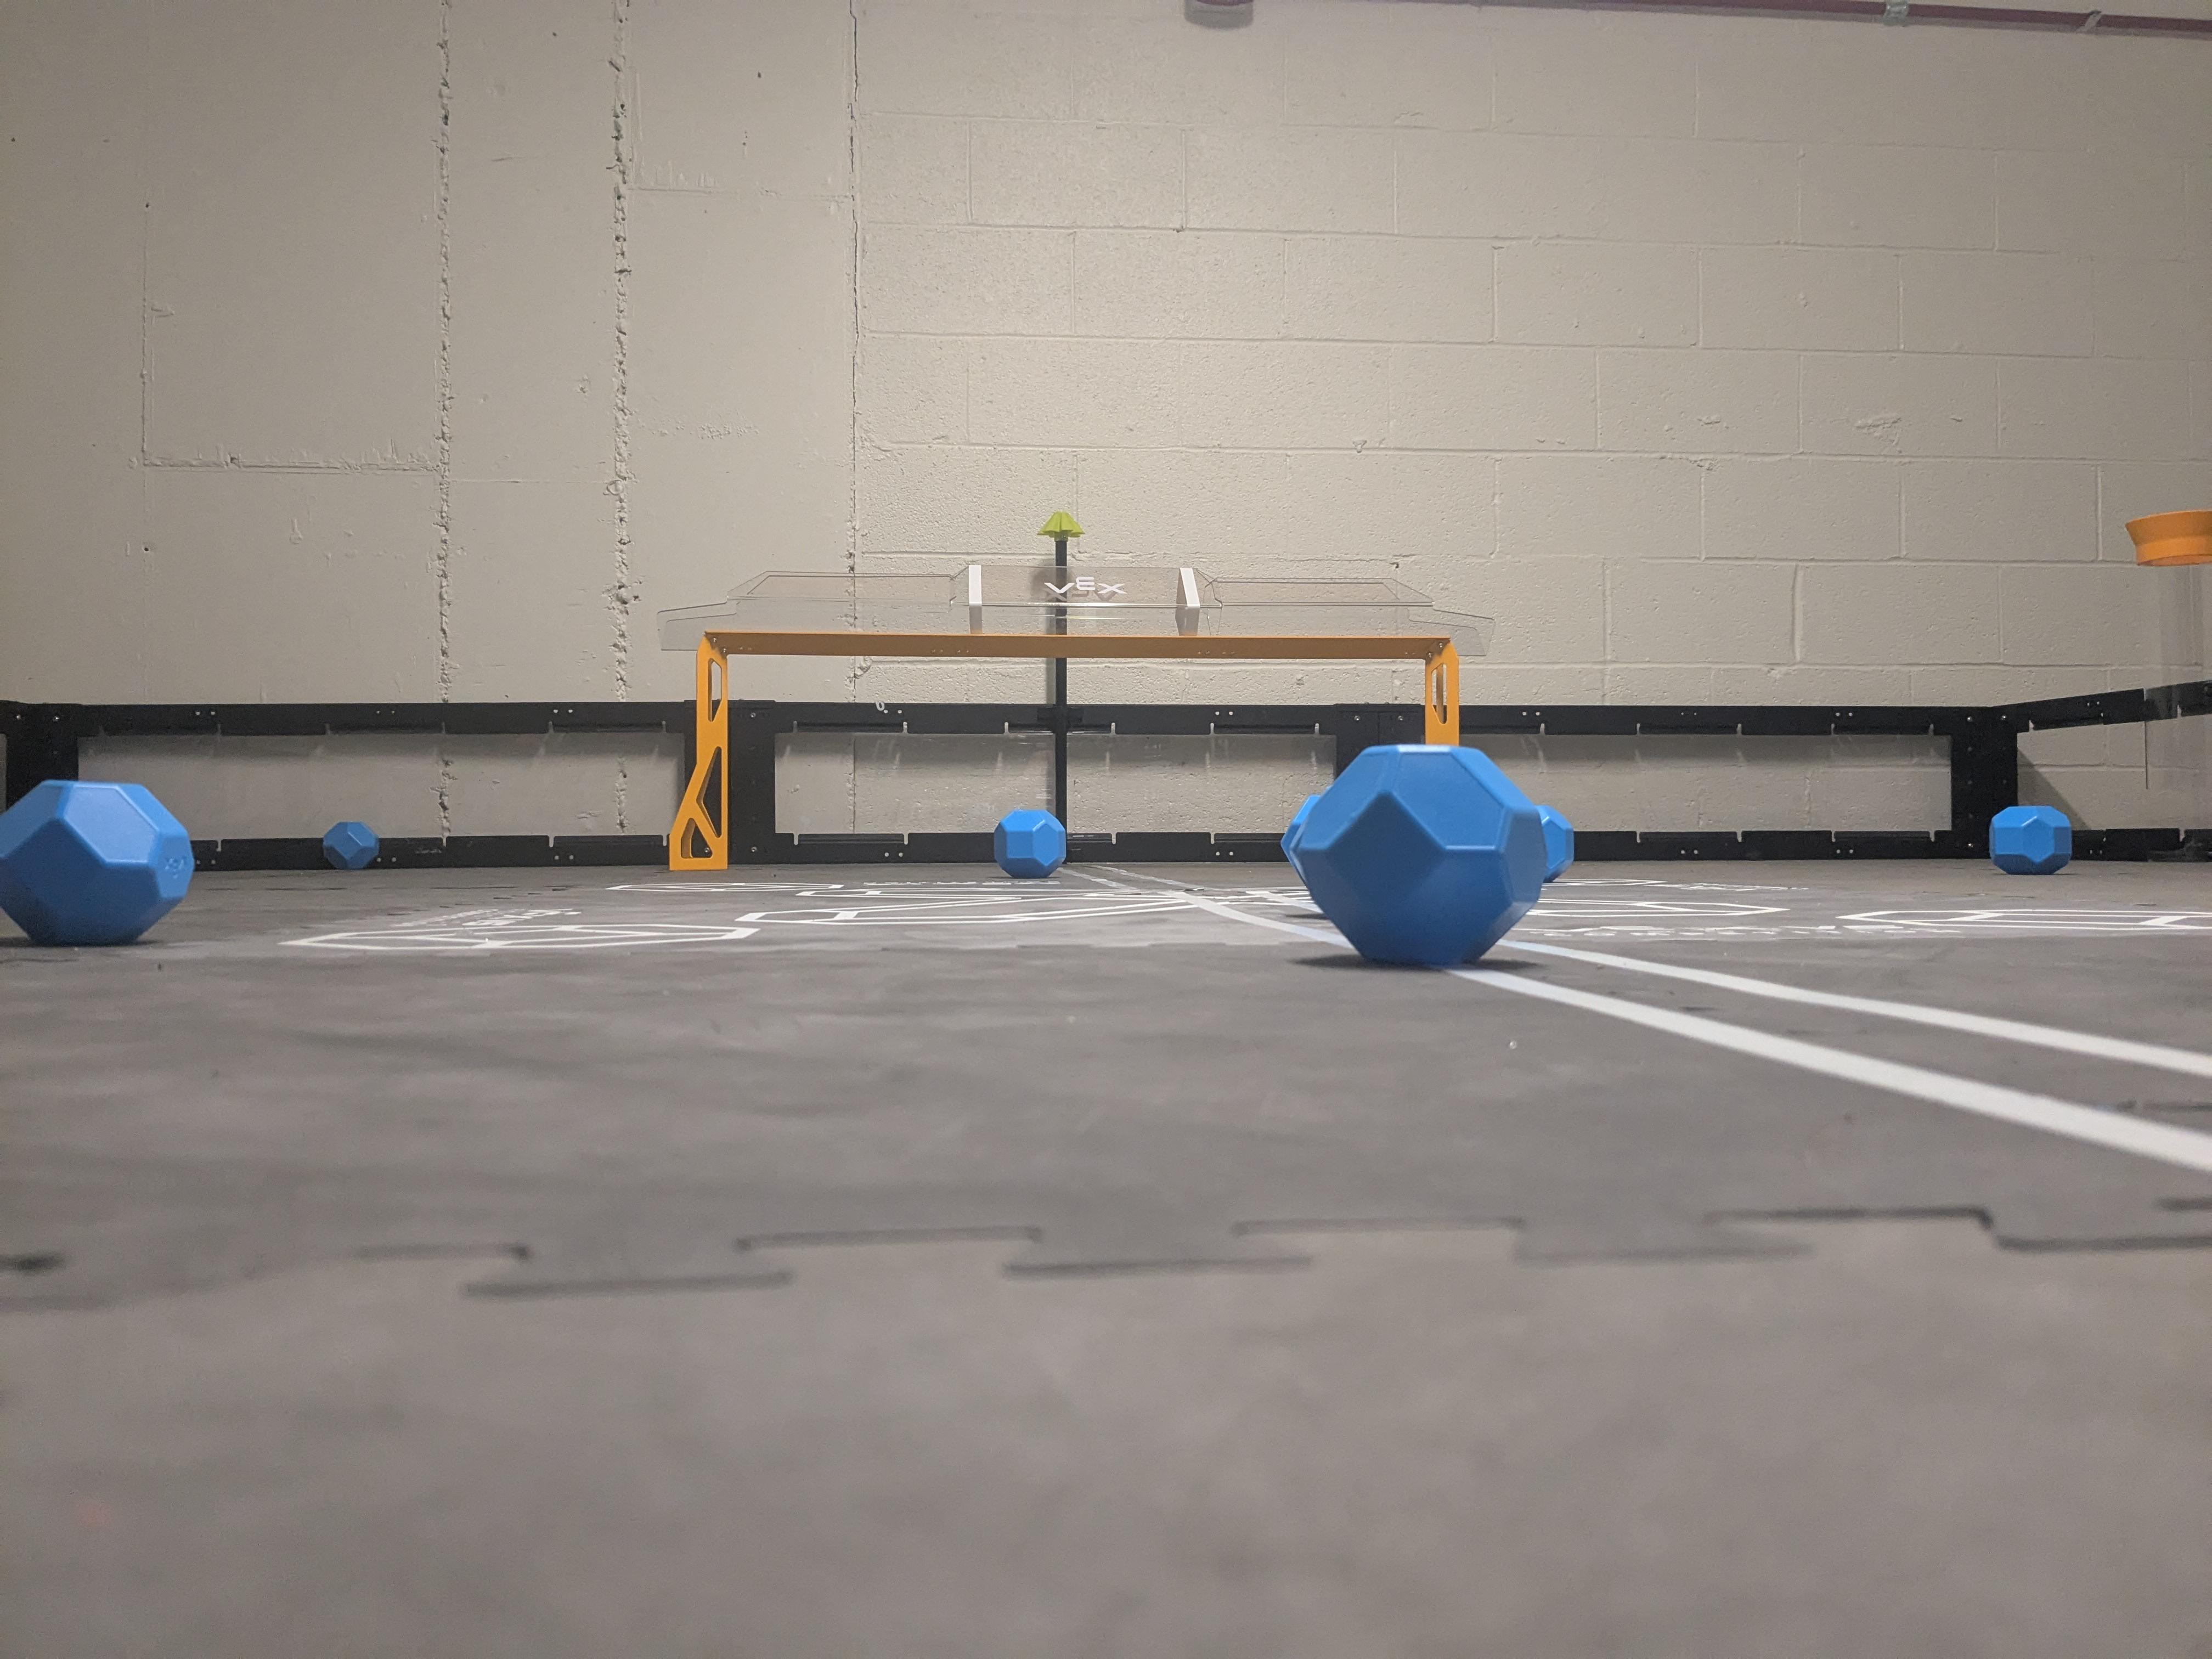Vex-Pieces-BLUE: (1282, 746, 1571, 965), (3, 777, 193, 943), (1987, 805, 2069, 873), (998, 810, 1064, 878), (322, 821, 378, 870)
